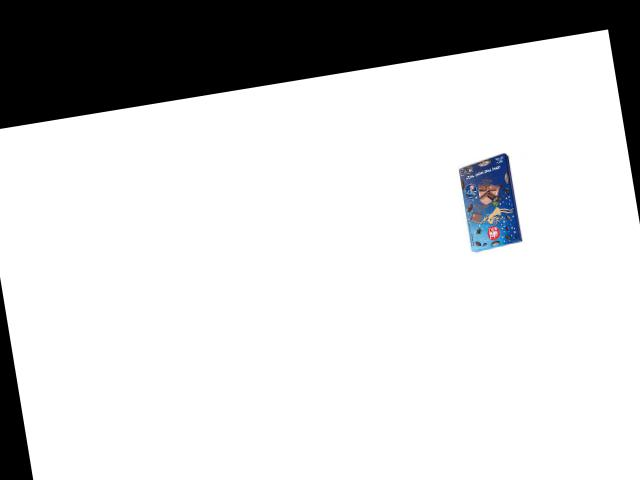chocolate: (450, 151, 529, 255)
